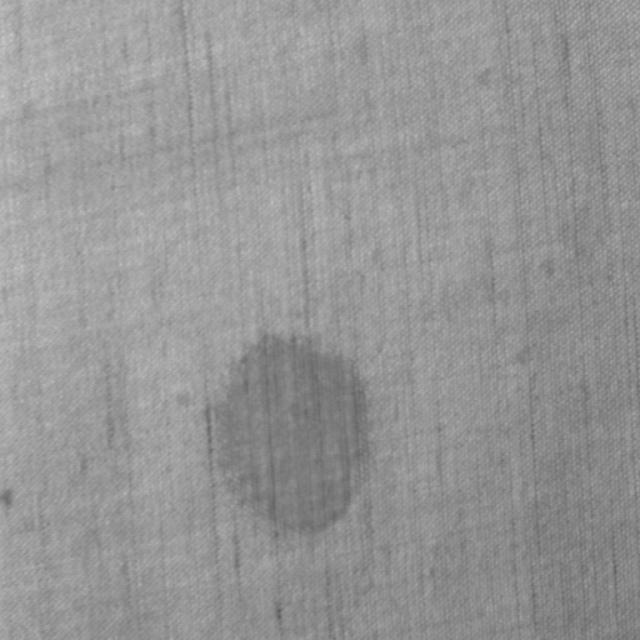oil spot: (213, 328, 371, 538)
